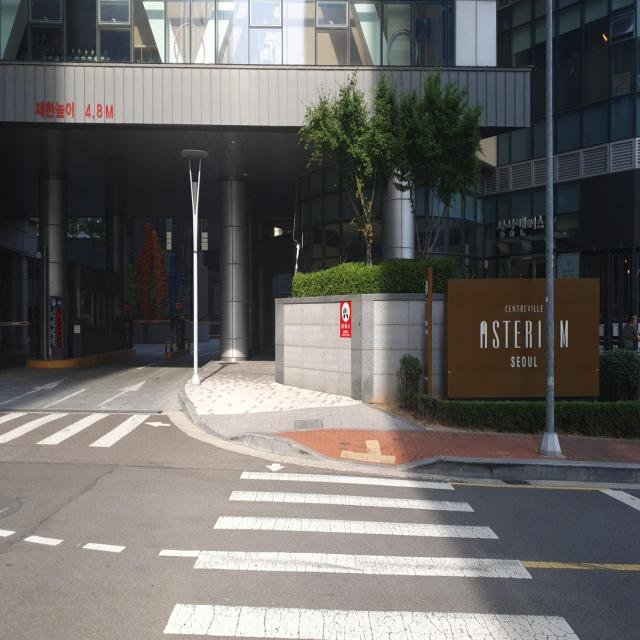횡단보도: (160, 458, 584, 640), (0, 406, 172, 451)
